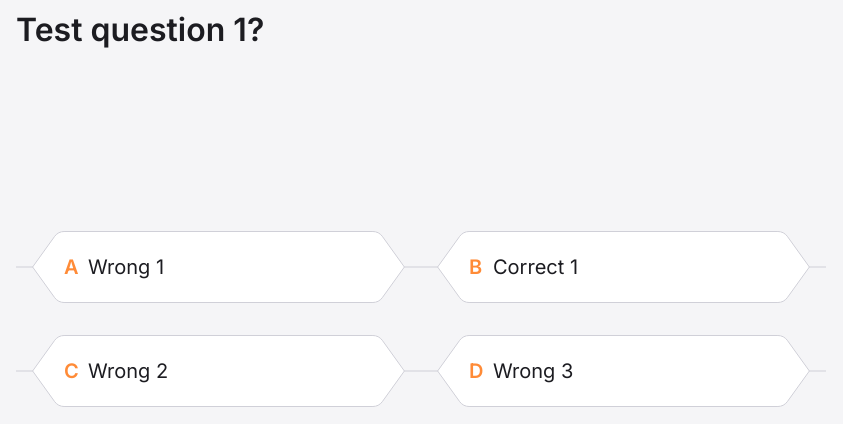
GameBoard › disables answer buttons after selection
The width and height of the screenshot is (843, 424).
Click the text "Wrong 1": (126, 267) [88,255,164,279]
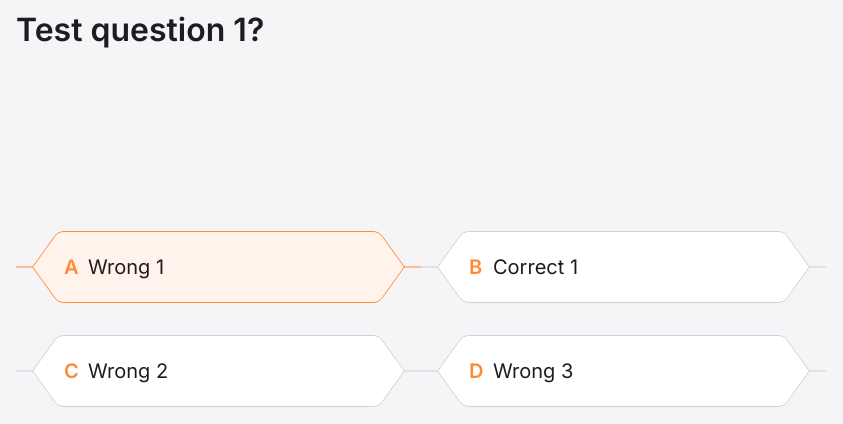
Expected: the button "B Correct 1" is disabled, [421,231,826,303]
Result: the button "A Wrong 1" is disabled at [16,231,421,303]
